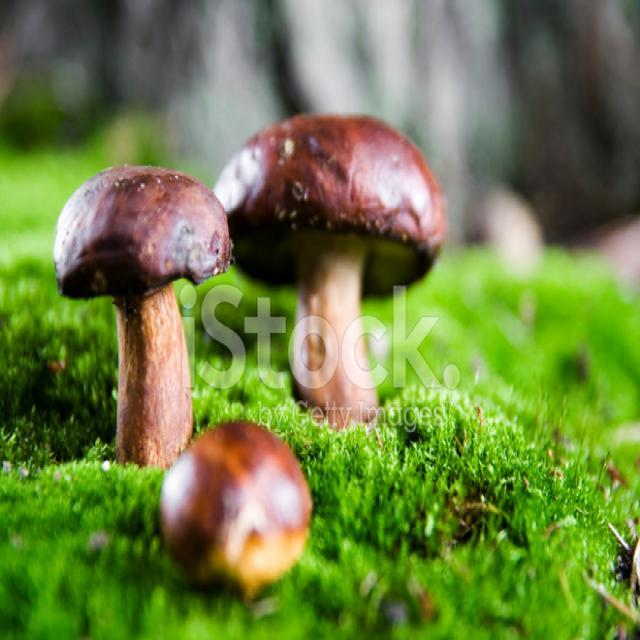Boletus: (214, 112, 448, 423), (58, 164, 237, 470)
